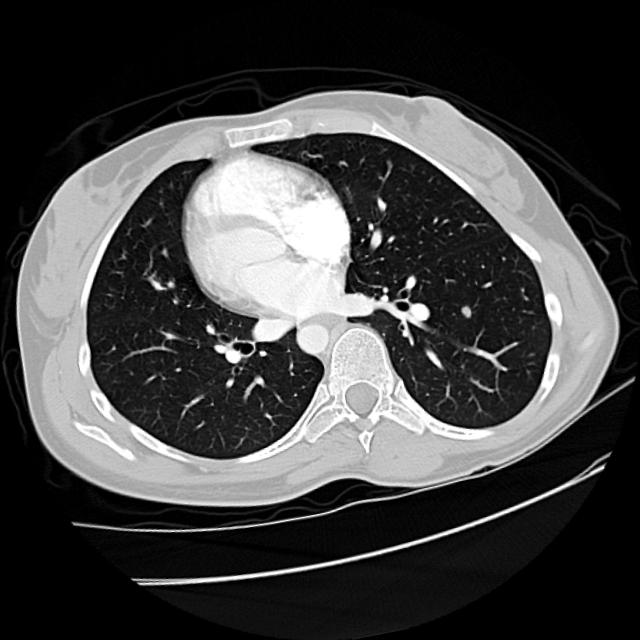nodule: (451, 293, 486, 328)
